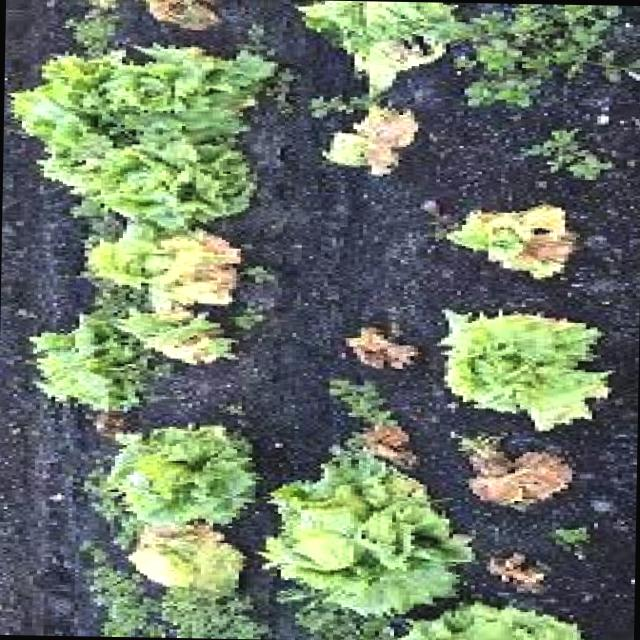Septoria_Blight: (48, 40, 254, 352), (443, 311, 602, 424), (110, 518, 258, 594)
